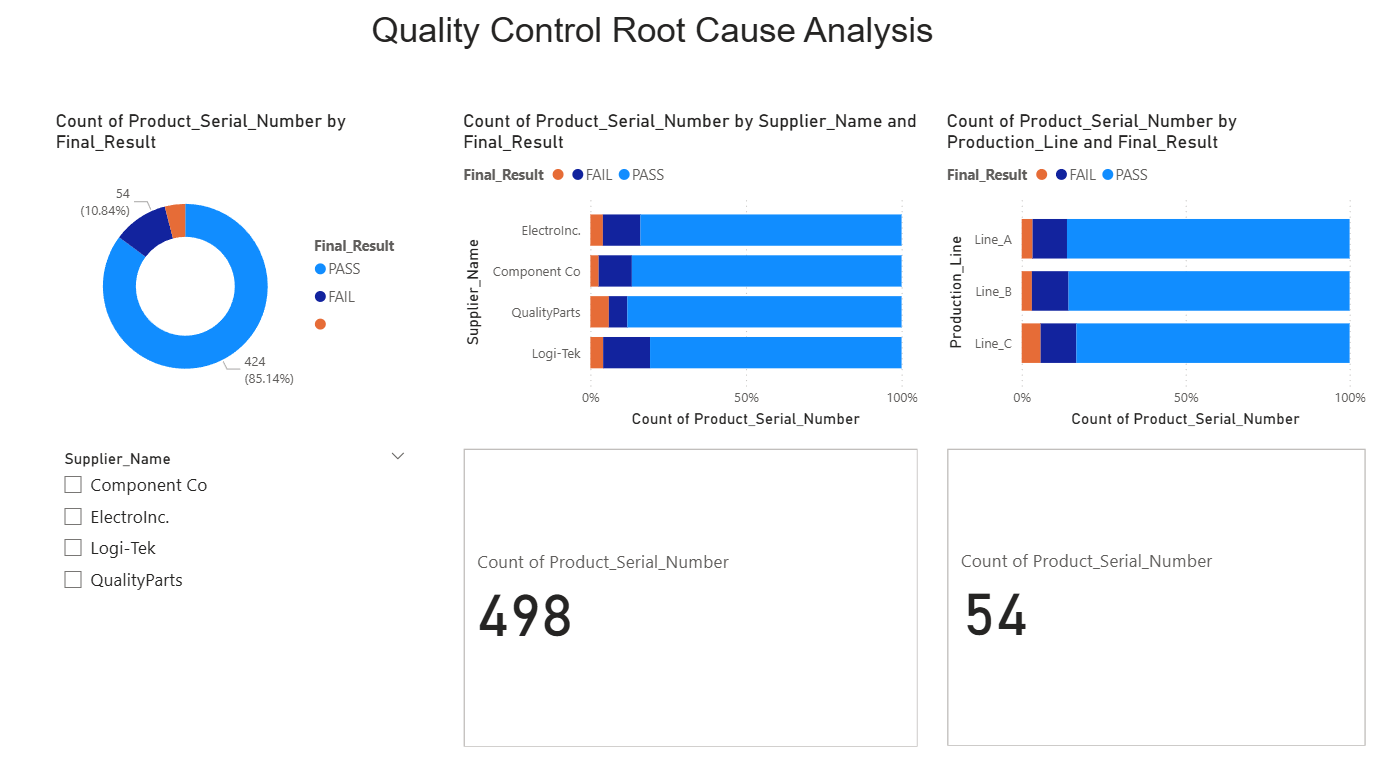

The page's visual inventory and layout, read from the dashboard file:
{"tool":"powerbi","page":{"name":"Page 1","canvas":[1280,720],"ordinal":0},"visuals":[{"type":"donutChart","fields":{"Category":["master_quality_dataset.Final_Result"],"Y":["CountNonNull(master_quality_dataset.Product_Serial_Number)"]},"box":[51.8,111.5,338,283.9],"z":0},{"type":"hundredPercentStackedBarChart","fields":{"Category":["master_quality_dataset.Supplier_Name"],"Series":["master_quality_dataset.Final_Result"],"Y":["CountNonNull(master_quality_dataset.Product_Serial_Number)"]},"box":[425.9,111.5,427,295.2],"z":1},{"type":"hundredPercentStackedBarChart","fields":{"Category":["master_quality_dataset.Production_Line"],"Series":["master_quality_dataset.Final_Result"],"Y":["CountNonNull(master_quality_dataset.Product_Serial_Number)"]},"box":[869.7,111.5,394.3,295.2],"z":2},{"type":"slicer","fields":{"Values":["master_quality_dataset.Supplier_Name"]},"box":[51.8,416.8,338,283.9],"z":3},{"type":"textbox","box":[341.4,14.6,572.3,67.6],"z":4},{"type":"cardVisual","fields":{"Data":["CountNonNull(master_quality_dataset.Product_Serial_Number)"]},"box":[426,417,427,284],"z":5},{"type":"cardVisual","fields":{"Data":["CountNonNull(master_quality_dataset.Product_Serial_Number)"]},"box":[869.7,416.8,394.3,283.9],"z":6}]}

Visuals, with their boxes in screenshot pixels (x1, y1, x2, y2), scaled from the page's 1280x720 canvas onto the 1389x760 screenshot:
donutChart - master_quality_dataset.Final_Result x CountNonNull(master_quality_dataset.Product_Serial_Number): Rect(56, 118, 423, 417)
hundredPercentStackedBarChart - master_quality_dataset.Supplier_Name x master_quality_dataset.Final_Result: Rect(462, 118, 926, 429)
hundredPercentStackedBarChart - master_quality_dataset.Production_Line x master_quality_dataset.Final_Result: Rect(944, 118, 1372, 429)
slicer - master_quality_dataset.Supplier_Name: Rect(56, 440, 423, 740)
textbox: Rect(370, 15, 992, 87)
cardVisual - CountNonNull(master_quality_dataset.Product_Serial_Number): Rect(462, 440, 926, 740)
cardVisual - CountNonNull(master_quality_dataset.Product_Serial_Number): Rect(944, 440, 1372, 740)
